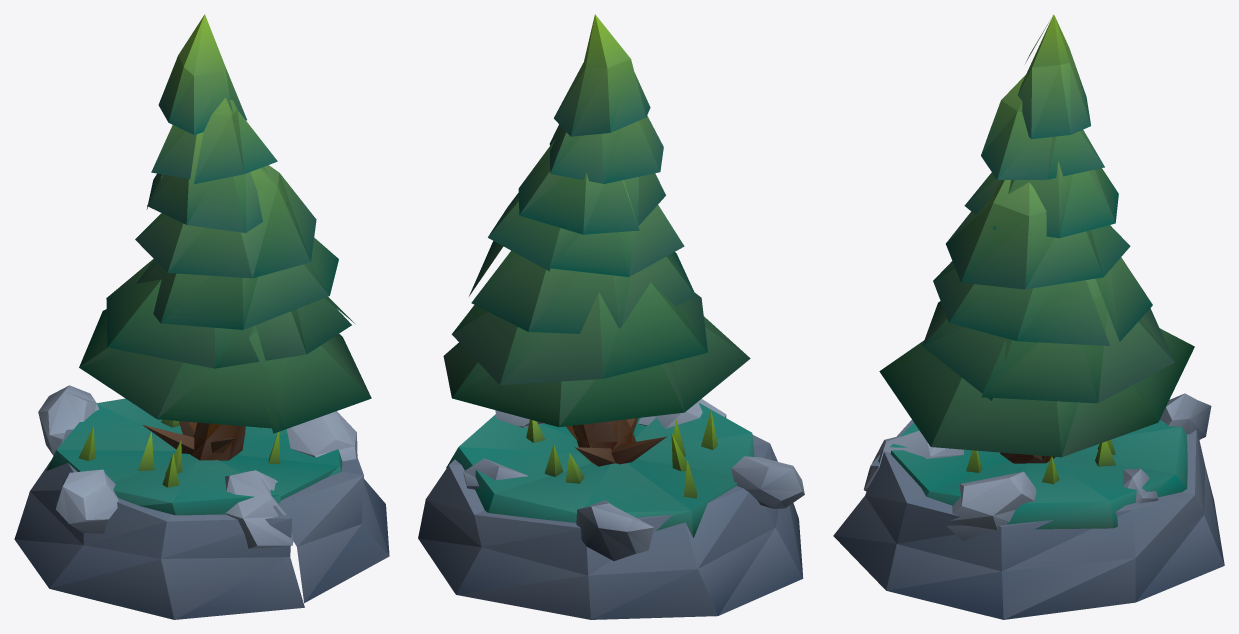
File: pohon_pine_highland_221015.glb
The picture shows the model from 3 angles, left to right: view 1: azimuth 30°, elevation 25°; view 2: azimuth 150°, elevation 25°; view 3: azimuth 270°, elevation 25°; orthographic projection. The views are drawn at different scales.
Visible parts, largest first — view 1: Dedaunan_Pinus, Pulau_Batu_Tepi_Sungai, Batang_Dan_Akar; view 2: Dedaunan_Pinus, Pulau_Batu_Tepi_Sungai, Batang_Dan_Akar; view 3: Dedaunan_Pinus, Pulau_Batu_Tepi_Sungai.
Boxes of the visible parts, box(x1,y1,x2,y2) form: Dedaunan_Pinus: box(79, 14, 371, 433); Pulau_Batu_Tepi_Sungai: box(14, 385, 389, 619); Batang_Dan_Akar: box(142, 421, 245, 460); Dedaunan_Pinus: box(443, 14, 750, 427); Pulau_Batu_Tepi_Sungai: box(418, 398, 804, 619); Batang_Dan_Akar: box(566, 418, 666, 466); Dedaunan_Pinus: box(879, 14, 1194, 457); Pulau_Batu_Tepi_Sungai: box(833, 393, 1224, 619).
Bounding box in the file's own units: 5.48 × 8.11 × 5.38.
